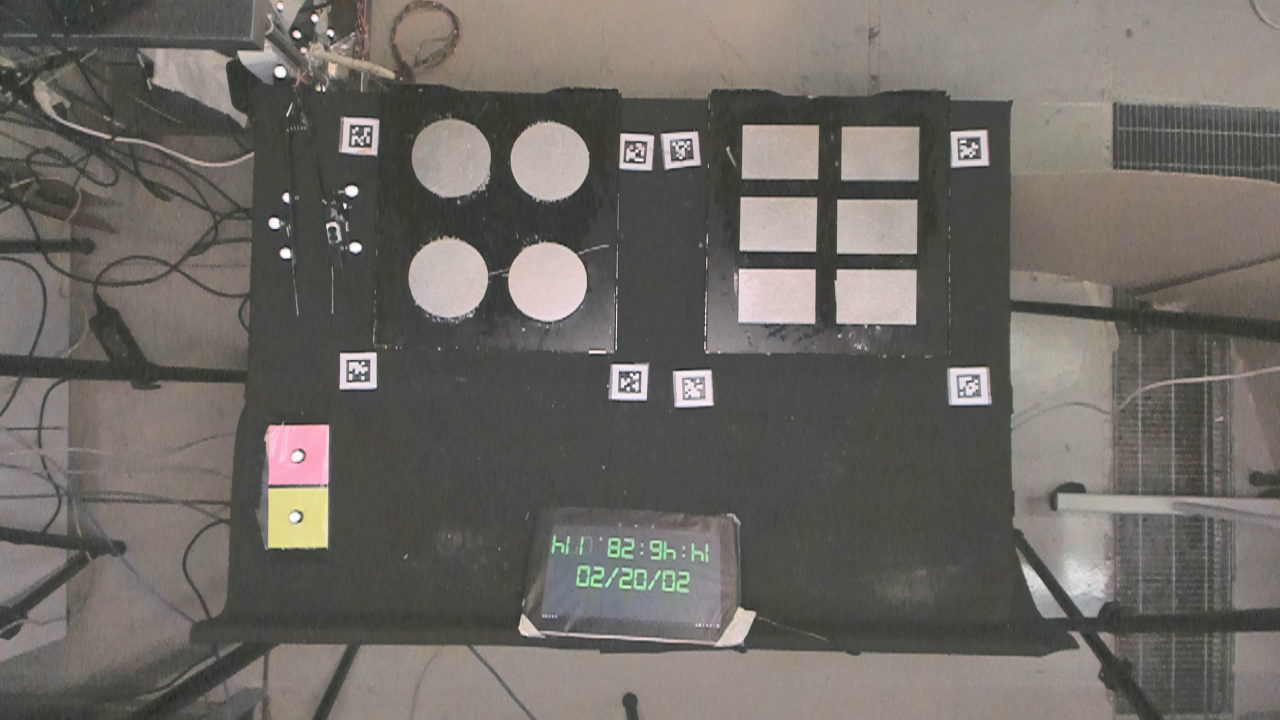marker: (265, 426, 328, 485)
